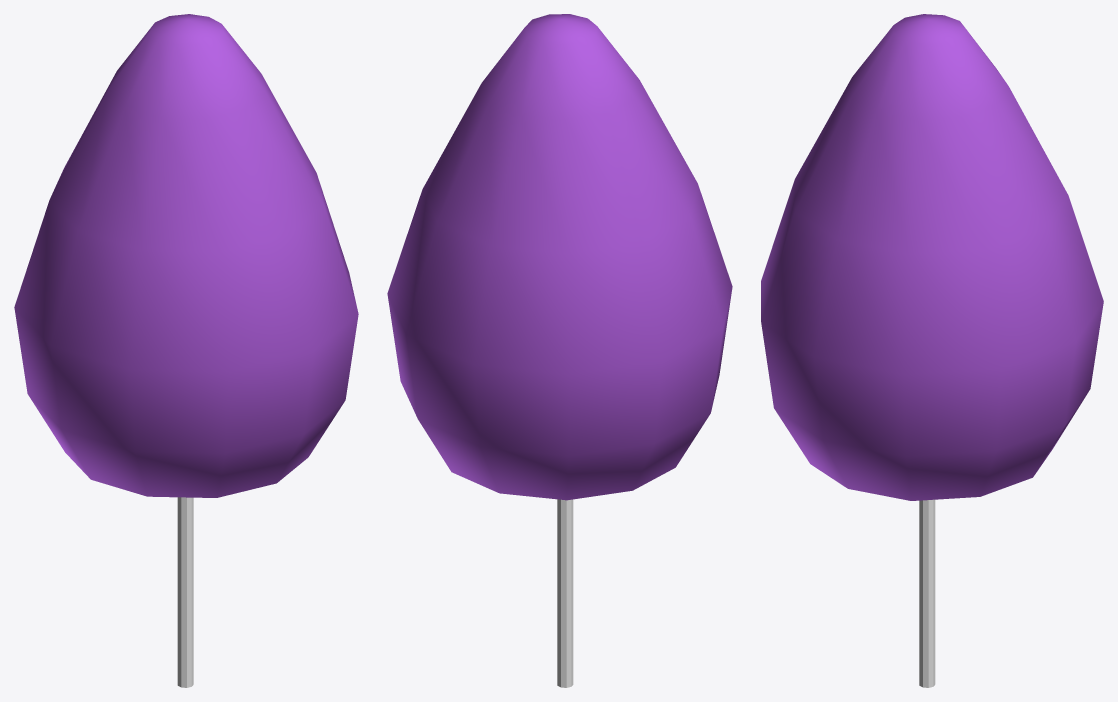
Rendered from 020_Candy_Tree_021.fbx.
3 renders of one model, left to right at view 1: azimuth 30°, elevation 25°; view 2: azimuth 150°, elevation 25°; view 3: azimuth 270°, elevation 25°, orthographic.
Parts seen in each view (by area): view 1: Sphere.067, Cylinder.053; view 2: Sphere.067, Cylinder.053; view 3: Sphere.067, Cylinder.053.
Boxes of the visible parts, x1,y1,x2,y2 form: Sphere.067: [14, 14, 358, 497]; Cylinder.053: [177, 497, 193, 687]; Sphere.067: [387, 14, 732, 500]; Cylinder.053: [557, 499, 573, 687]; Sphere.067: [761, 14, 1103, 500]; Cylinder.053: [919, 499, 935, 687].
Size of the model in its own units: 119 by 252 by 118.
